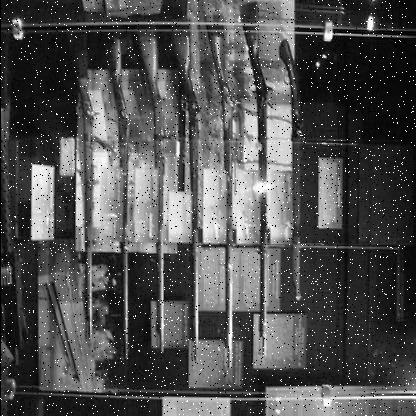rifle: (229, 0, 280, 374), (47, 28, 102, 345), (199, 5, 242, 402), (124, 21, 174, 360), (163, 0, 203, 379), (101, 28, 135, 364), (277, 35, 317, 318)
